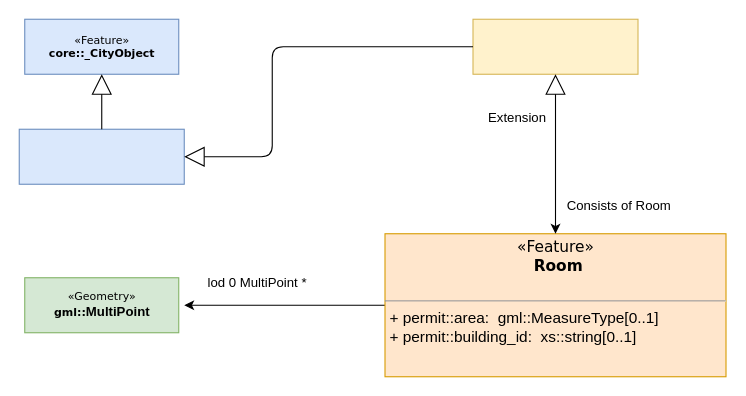
The diagram is 746 pixels wide and 396 high, and some of its shapes have lost their labels. The shapes that lost their labels are listed below. From the top down, each one's centre as x and y in pixels, then its label:
the point at 555,46: «Feature» _AbstractBuilding
the point at 101,156: «Feature» core::_Site
